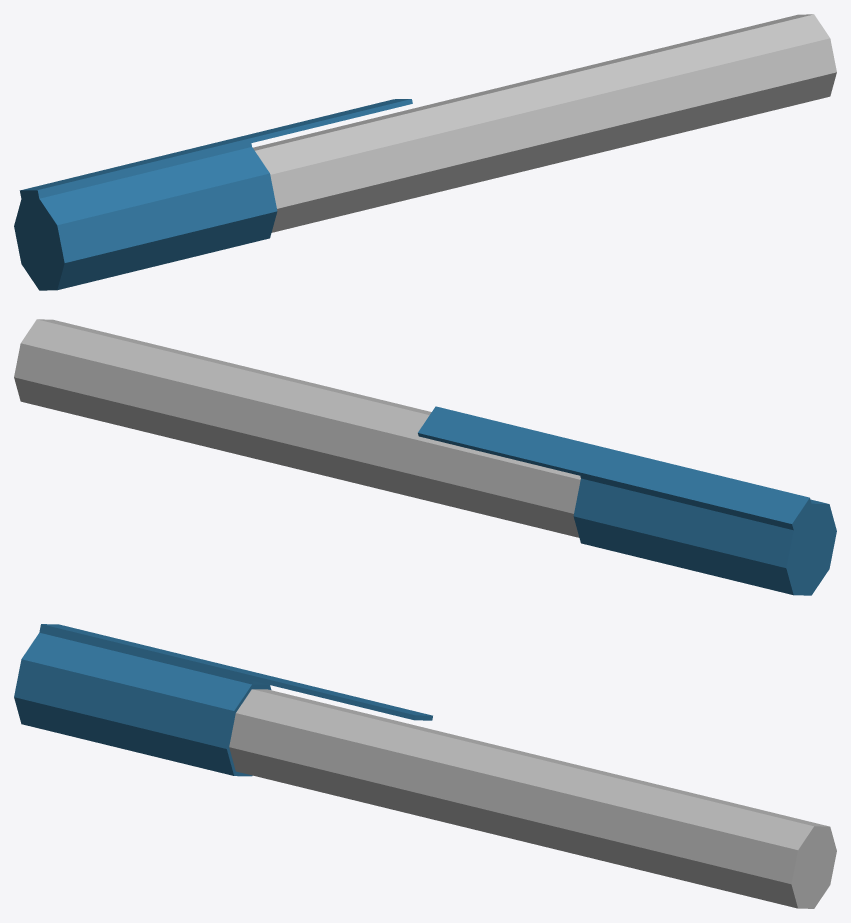
The model's file is Tusch_Blå.fbx.
The picture shows the model from 3 angles, top to bottom: view 1: azimuth 30°, elevation 25°; view 2: azimuth 150°, elevation 25°; view 3: azimuth 330°, elevation 25°; orthographic projection.
Visible parts, largest first — view 1: Cylinder.008; view 2: Cylinder.008; view 3: Cylinder.008.
Part boxes in pixels (x1,y1,x2,y2): Cylinder.008: [14, 14, 836, 290]; Cylinder.008: [14, 319, 836, 595]; Cylinder.008: [14, 624, 836, 908].
Bounding box in the file's own units: 26.65 × 3.26 × 3.02.
